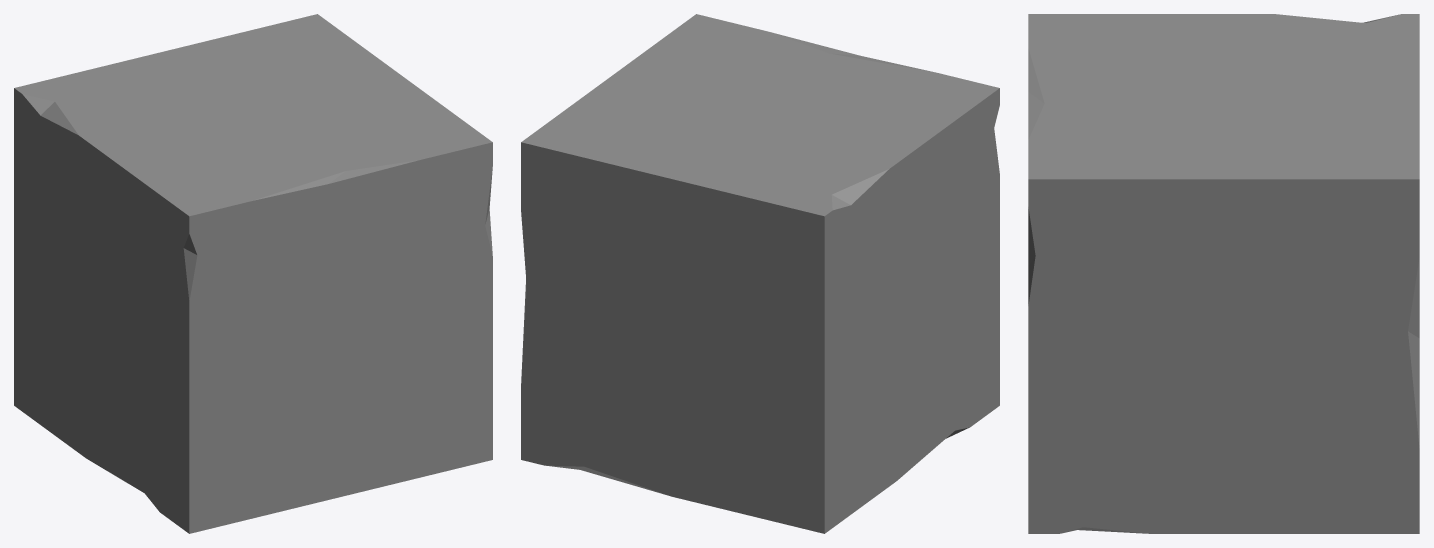
File: SW_ENV_ConcreteCube.fbx
3 views of the same model, side by side, from view 1: azimuth 30°, elevation 25°; view 2: azimuth 150°, elevation 25°; view 3: azimuth 270°, elevation 25° (orthographic). The views are drawn at different scales.
Parts seen in each view (by area): view 1: SW_ENV_ConcreteCube; view 2: SW_ENV_ConcreteCube; view 3: SW_ENV_ConcreteCube.
Boxes of the visible parts, <box> form: SW_ENV_ConcreteCube: <box>14,14,492,533</box>; SW_ENV_ConcreteCube: <box>521,14,999,533</box>; SW_ENV_ConcreteCube: <box>1028,14,1419,533</box>.
Size of the model in its own units: 45 by 45 by 45.
